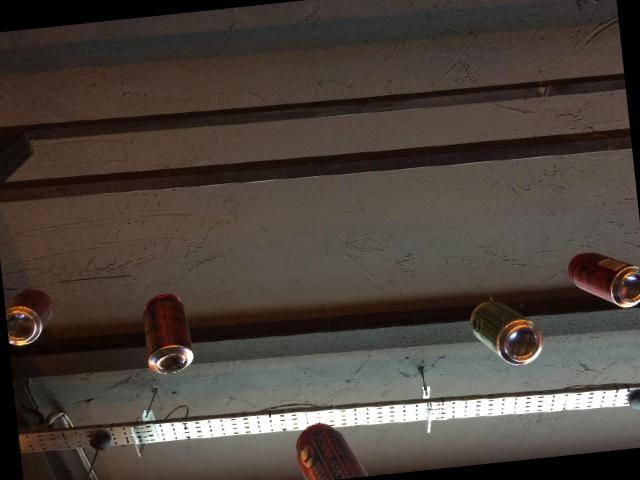metal: (470, 301, 543, 365), (296, 423, 369, 480), (143, 294, 194, 374), (568, 253, 640, 308), (6, 289, 53, 346)
